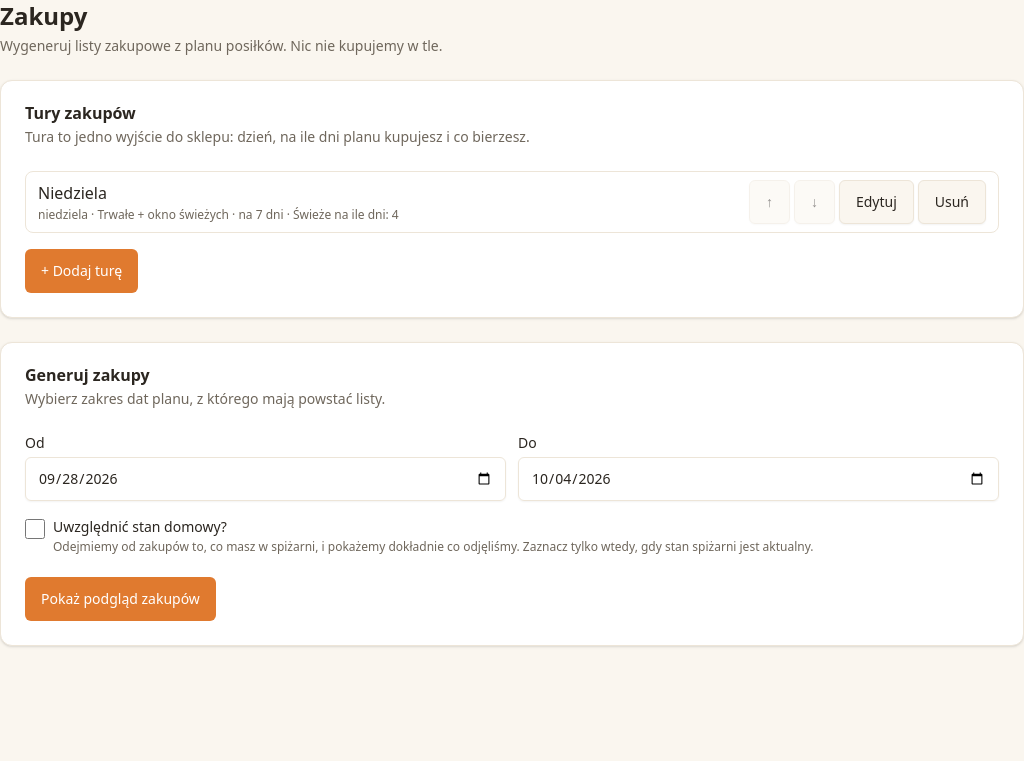
Test case: ZakupyPage › ostrzeżenie NIE blokuje finalizacji (brak retail to podpowiedź, nie bloker)
Click the button with test id "zakupy-generate" at (120, 599), box [25,577,216,621]
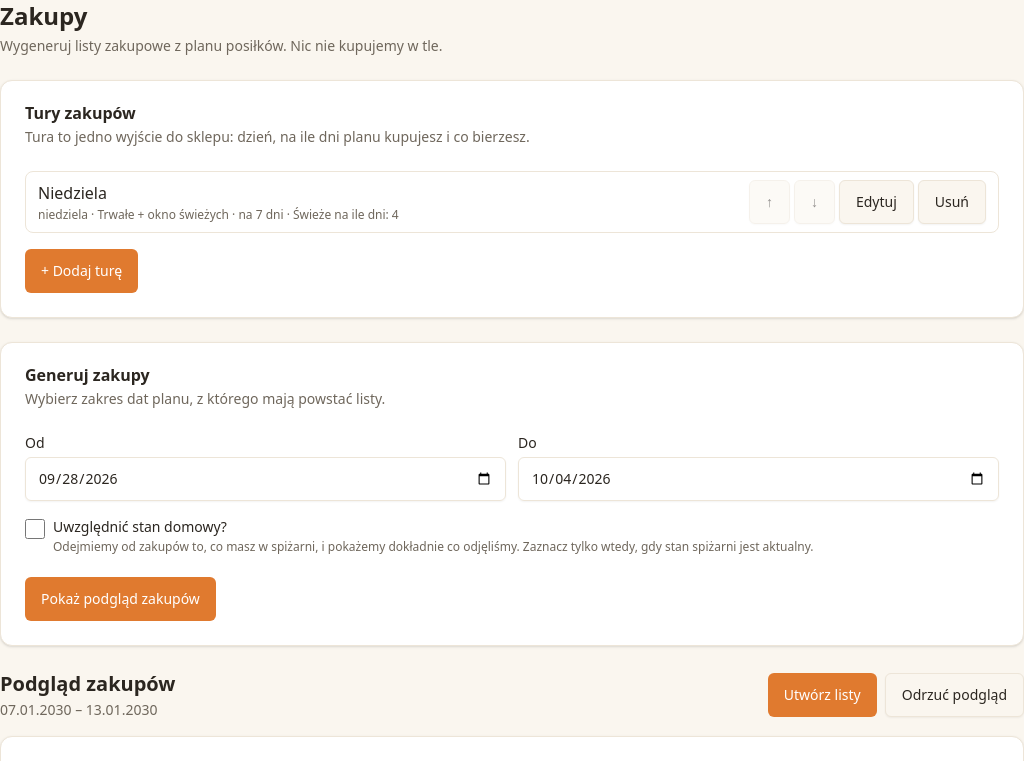
Check: the button with test id "preview-finalize" is enabled, box [768,673,877,717]
